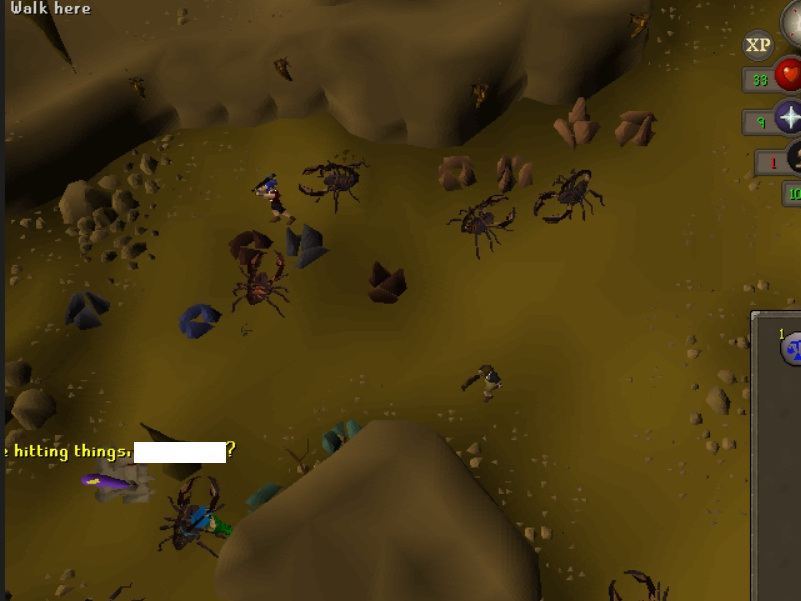adamant: (317, 415, 366, 456), (239, 476, 288, 517)
copper: (547, 90, 602, 150), (607, 95, 662, 155), (430, 146, 483, 197), (489, 152, 540, 196)
iron: (361, 258, 411, 308), (221, 223, 273, 266)
mithril: (173, 299, 224, 344)
